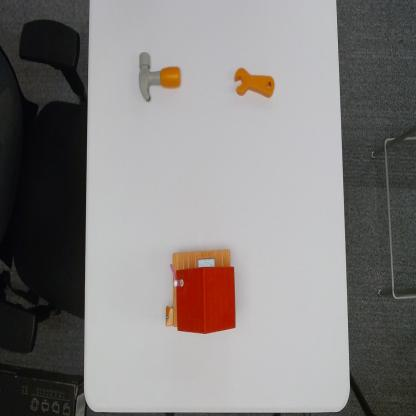Hammer: (138, 49, 184, 102)
House: (164, 245, 237, 337)
Screwdriver: (234, 65, 276, 99)
